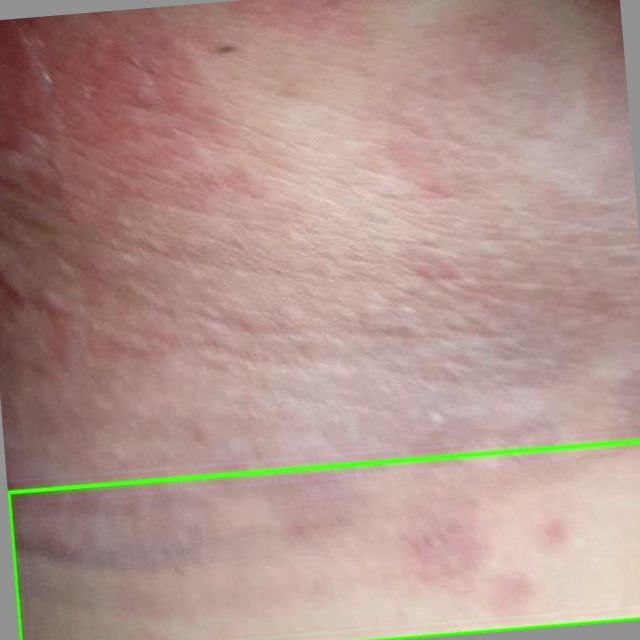Tinea Corporis: (8, 440, 639, 639)
